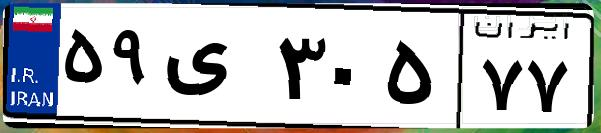0: (330, 28, 385, 110)
3: (270, 28, 330, 110)
5: (385, 28, 445, 110), (57, 26, 110, 100)
7: (475, 38, 525, 113), (525, 38, 570, 115)
9: (110, 28, 158, 98)
ی: (158, 20, 270, 120)
